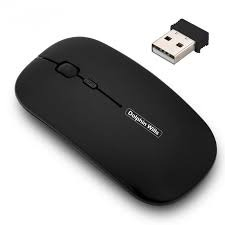mouse: (8, 33, 219, 207)
